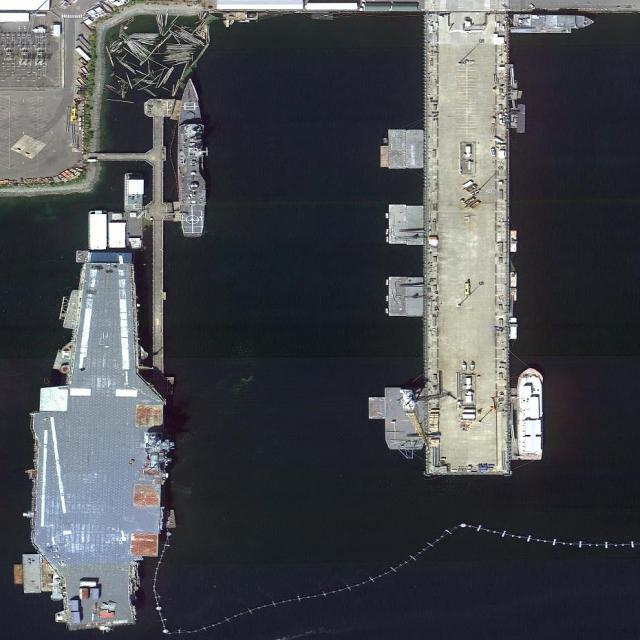Aircraft Carrier: (24, 260, 169, 633)
Dock: (424, 12, 514, 474), (140, 99, 180, 386)
Frigate: (175, 77, 206, 237)
Other Ship: (519, 365, 544, 460), (511, 14, 598, 30)
